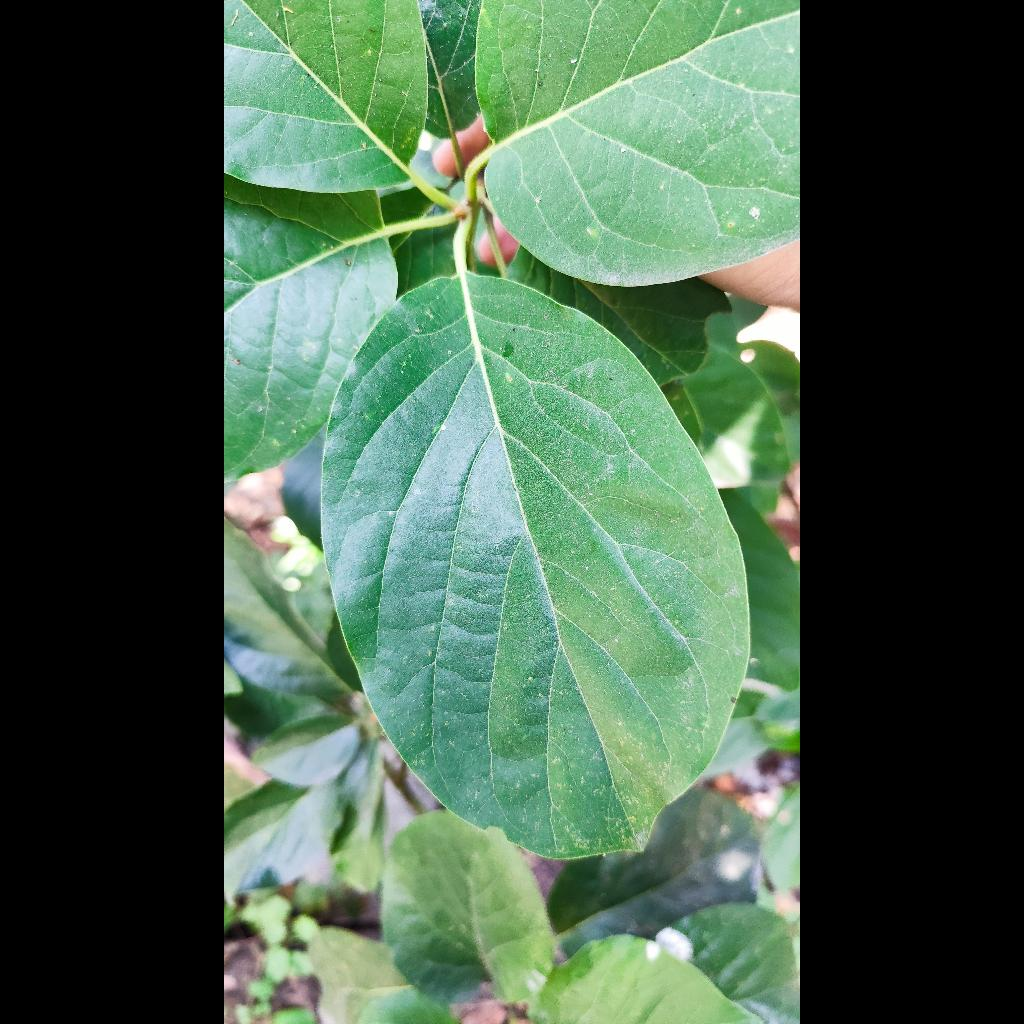Healthy: (323, 261, 748, 857), (476, 0, 800, 285)
